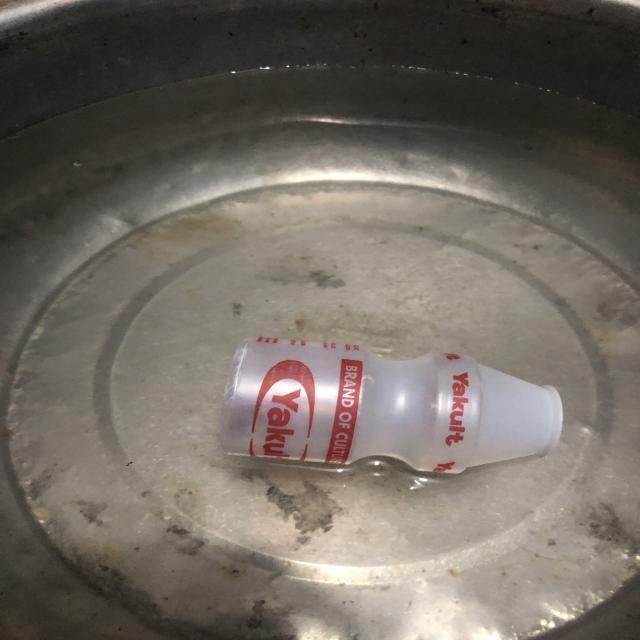Plastic Bottle: (225, 338, 582, 488)
